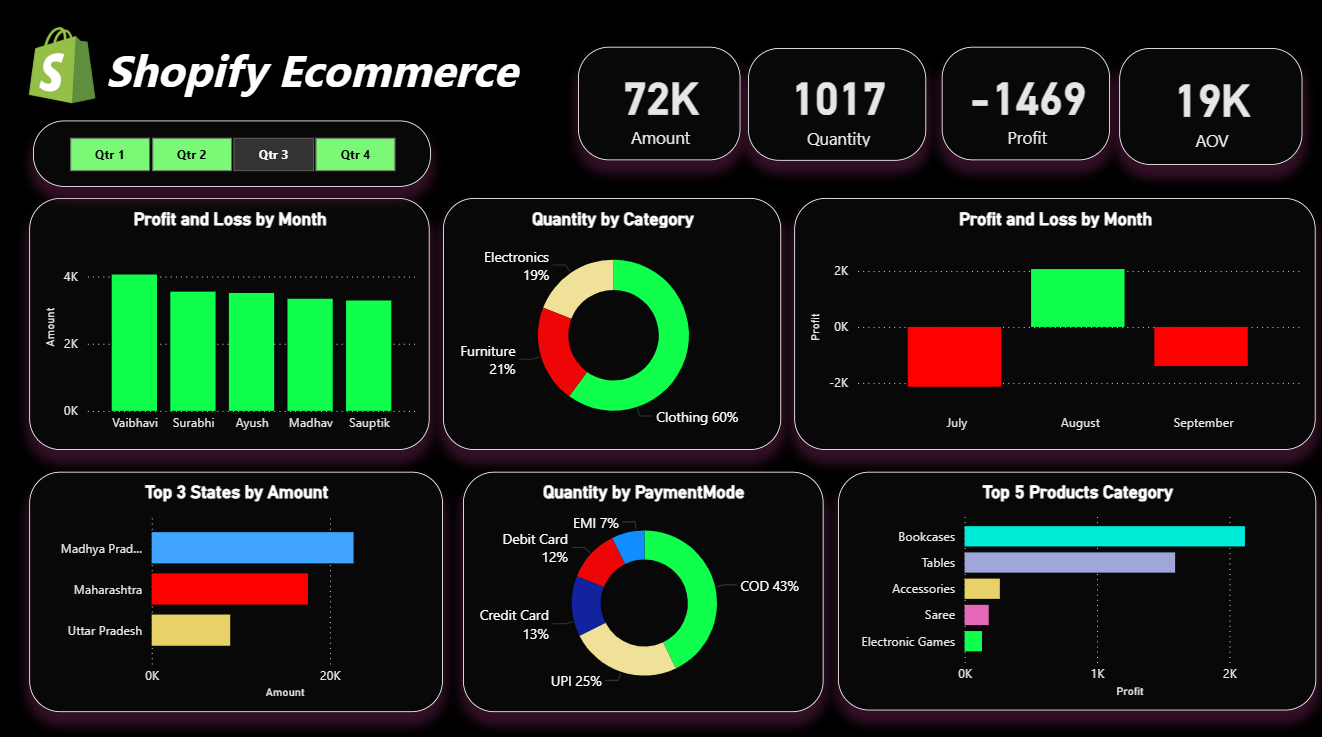

Layout of this report page (visuals, bound fields, positions):
{"tool":"powerbi","page":{"name":"Shopify","canvas":[1280,720],"ordinal":0},"visuals":[{"type":"columnChart","title":"Profit and Loss by Month","fields":{"Y":["Sum(Products.Profit)"],"Category":["Orders.Order Date.Variation.Date Hierarchy.Month"]},"box":[768.6,193.2,503.2,243.2],"z":0},{"type":"barChart","title":"Top 5 Products Category","fields":{"Category":["Products.Sub-Category"],"Y":["Sum(Products.Profit)"]},"box":[810.3,457.3,461.5,230.7],"z":1000},{"type":"donutChart","fields":{"Category":["Products.Category"],"Y":["Sum(Products.Quantity)"]},"box":[429.5,193.2,326.6,243.2],"z":2000},{"type":"donutChart","fields":{"Y":["Sum(Products.Quantity)"],"Category":["Products.PaymentMode"]},"box":[448.5,456.9,347.7,231.8],"z":3000},{"type":"card","fields":{"Values":["Sum(Products.Amount)"]},"box":[560.2,47.3,157.1,109.8],"z":4000},{"type":"card","fields":{"Values":["Sum(Products.Quantity)"]},"box":[724.2,48.6,172.4,108.4],"z":5000},{"type":"card","fields":{"Values":["Sum(Products.Profit)"]},"box":[910.4,47.3,162.6,109.8],"z":6000},{"type":"card","fields":{"Values":["Sum(Products.AOV)"]},"box":[1082.8,48.6,176.5,112.6],"z":7000},{"type":"barChart","title":"Top 3 States by Amount","fields":{"Y":["Sum(Products.Amount)"],"Category":["Orders.State"]},"box":[30.6,457.3,398.9,232.1],"z":8000},{"type":"columnChart","title":"Profit and Loss by Month","fields":{"Category":["Orders.CustomerName"],"Y":["Sum(Products.Amount)"]},"box":[30.6,193.2,386.4,243.2],"z":9000},{"type":"slicer","fields":{"Values":["Orders.Order Date.Variation.Date Hierarchy.Quarter"]},"box":[33.4,118.1,383.6,63.9],"z":10000},{"type":"textbox","box":[99.1,35.3,431.7,110.9],"z":11000},{"type":"image","box":[10.1,0,107.5,117.6],"z":12000}]}

Visuals, with their boxes in screenshot pixels (x1, y1, x2, y2), scaled from the page's 1280x720 canvas onto the 1322x737 screenshot:
"Profit and Loss by Month" columnChart: <box>794,198,1314,447</box>
"Top 5 Products Category" barChart: <box>837,468,1314,704</box>
donutChart - Products.Category x Sum(Products.Quantity): <box>444,198,781,447</box>
donutChart - Sum(Products.Quantity) x Products.PaymentMode: <box>463,468,822,705</box>
card - Sum(Products.Amount): <box>579,48,741,161</box>
card - Sum(Products.Quantity): <box>748,50,926,161</box>
card - Sum(Products.Profit): <box>940,48,1108,161</box>
card - Sum(Products.AOV): <box>1118,50,1301,165</box>
"Top 3 States by Amount" barChart: <box>32,468,444,706</box>
"Profit and Loss by Month" columnChart: <box>32,198,431,447</box>
slicer - Orders.Order Date.Variation.Date Hierarchy.Quarter: <box>34,121,431,186</box>
textbox: <box>102,36,548,150</box>
image: <box>10,0,121,120</box>
